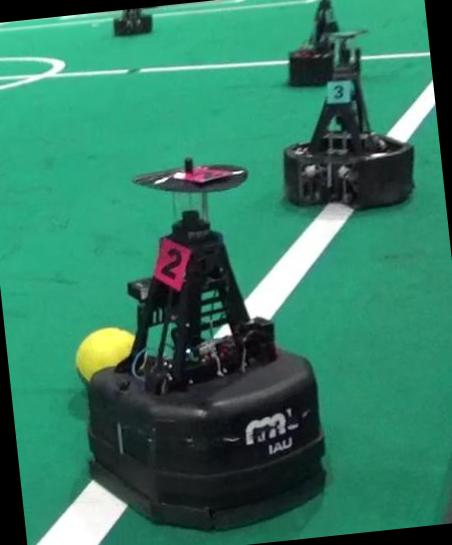ball: (75, 327, 134, 382)
robot: (89, 159, 325, 530), (285, 30, 415, 209), (289, 0, 339, 85), (113, 8, 151, 34)
